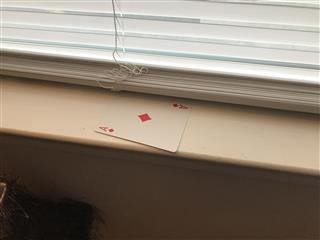AceOfDiamonds: (93, 93, 191, 152)
